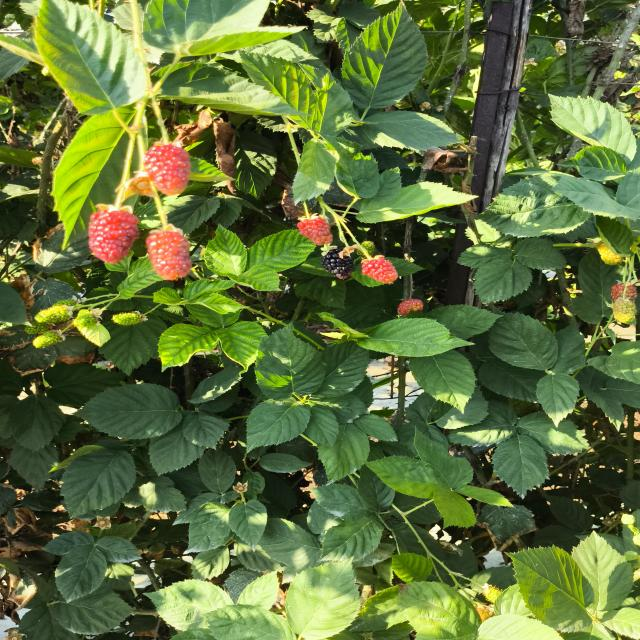maduro: (321, 248, 354, 279)
naranja: (88, 205, 139, 264), (144, 143, 191, 196), (146, 225, 191, 280), (297, 217, 332, 246), (362, 256, 398, 283), (611, 283, 637, 301), (398, 299, 423, 315)
verde: (34, 304, 71, 323), (596, 242, 623, 265), (613, 299, 636, 323), (112, 311, 147, 326), (33, 332, 63, 348), (73, 310, 96, 328), (357, 240, 378, 257), (24, 321, 49, 335)
